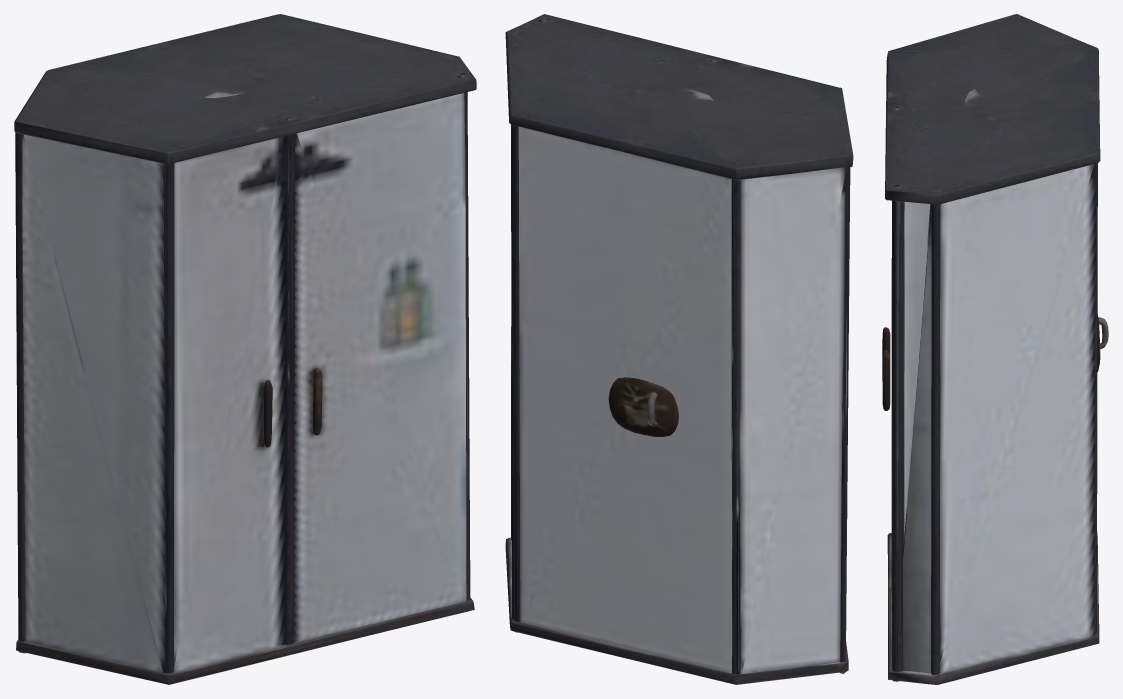
Rendered from glass_shower.glb.
The picture shows the model from 3 angles, left to right: view 1: azimuth 30°, elevation 25°; view 2: azimuth 150°, elevation 25°; view 3: azimuth 270°, elevation 25°; orthographic projection. The views are drawn at different scales.
Parts seen in each view (by area): view 1: geometry_0, sliding-panel; view 2: geometry_0; view 3: geometry_0, sliding-panel.
Boxes of the visible parts, x1,y1,x2,y2 form: geometry_0: [14, 14, 476, 684]; sliding-panel: [285, 93, 466, 644]; geometry_0: [505, 14, 853, 684]; geometry_0: [882, 14, 1108, 684]; sliding-panel: [882, 106, 904, 670].
Bounding box in the file's own units: 0.7852 × 0.9993 × 0.4151.
Materials: 1 (1 with a texture image).
